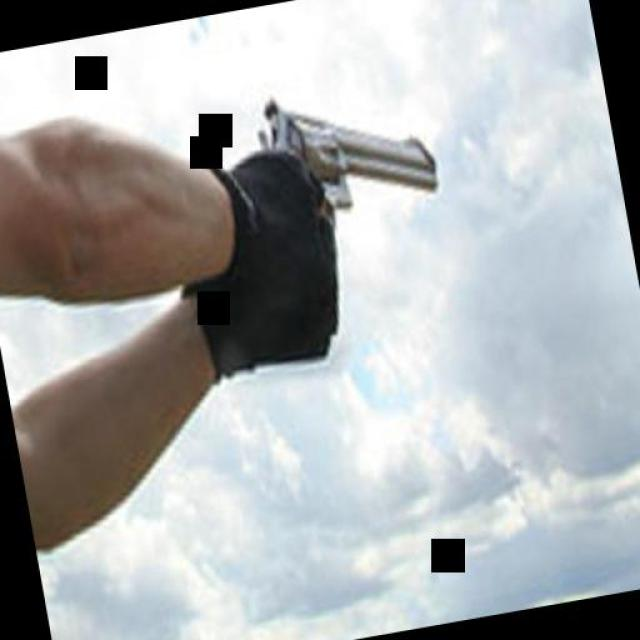gun: (242, 68, 446, 238)
